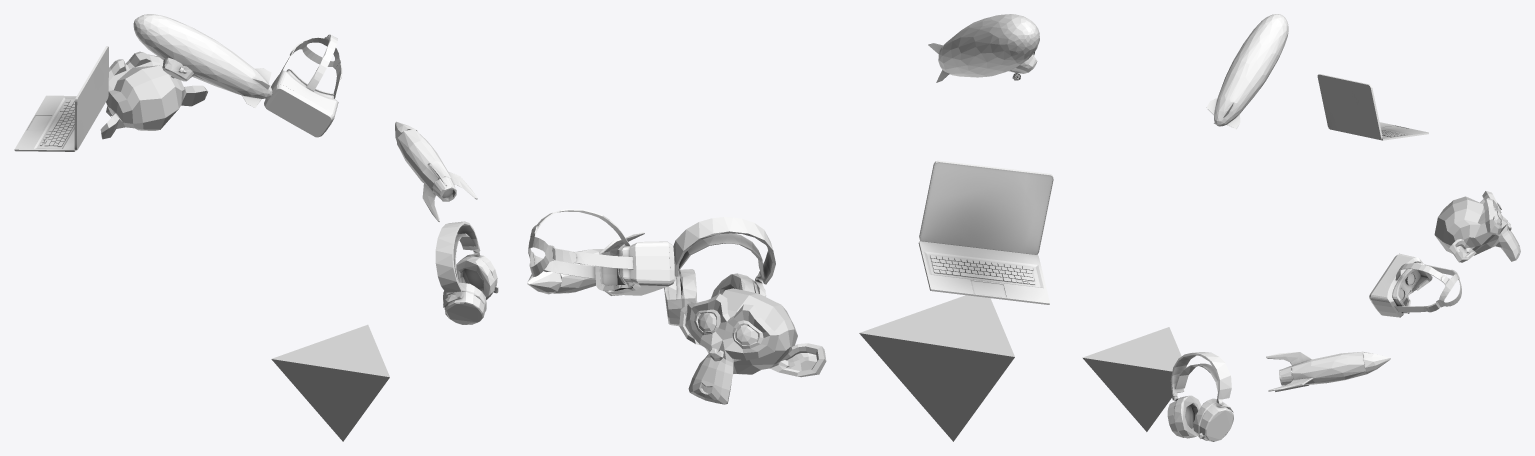
The model's file is spiral_scroll.glb.
The picture shows the model from 3 angles, left to right: view 1: azimuth 30°, elevation 25°; view 2: azimuth 150°, elevation 25°; view 3: azimuth 270°, elevation 25°; orthographic projection. The views are drawn at different scales.
Parts seen in each view (by area): view 1: Cone, Zeppelin, Suzanne, Headphones, Notebook, VR Headset, Rocket.003; view 2: Notebook, Cone, Suzanne, VR Headset, Zeppelin, Headphones, Rocket.003; view 3: Cone, Zeppelin, Suzanne, Headphones, Notebook, VR Headset, Rocket.003.
Boxes of the visible parts, box(x1,y1,x2,y2) form: Cone: box(271, 324, 389, 441); Zeppelin: box(133, 14, 272, 108); Suzanne: box(100, 51, 207, 139); Headphones: box(435, 221, 498, 324); Notebook: box(14, 46, 108, 151); VR Headset: box(264, 34, 342, 137); Rocket.003: box(395, 121, 477, 221); Notebook: box(918, 160, 1053, 304); Cone: box(859, 295, 1014, 441); Suzanne: box(679, 288, 826, 404); VR Headset: box(528, 209, 674, 295); Zeppelin: box(928, 14, 1039, 82); Headphones: box(664, 217, 775, 326); Rocket.003: box(527, 231, 644, 295); Cone: box(1082, 327, 1181, 431); Zeppelin: box(1206, 14, 1288, 129); Suzanne: box(1434, 191, 1520, 262); Headphones: box(1167, 352, 1233, 441); Notebook: box(1317, 74, 1428, 140); VR Headset: box(1369, 253, 1461, 317); Rocket.003: box(1266, 351, 1390, 391).
Size of the model in its own units: 21.61 by 20.61 by 22.56.
Materials: 7 (5 with a texture image).
